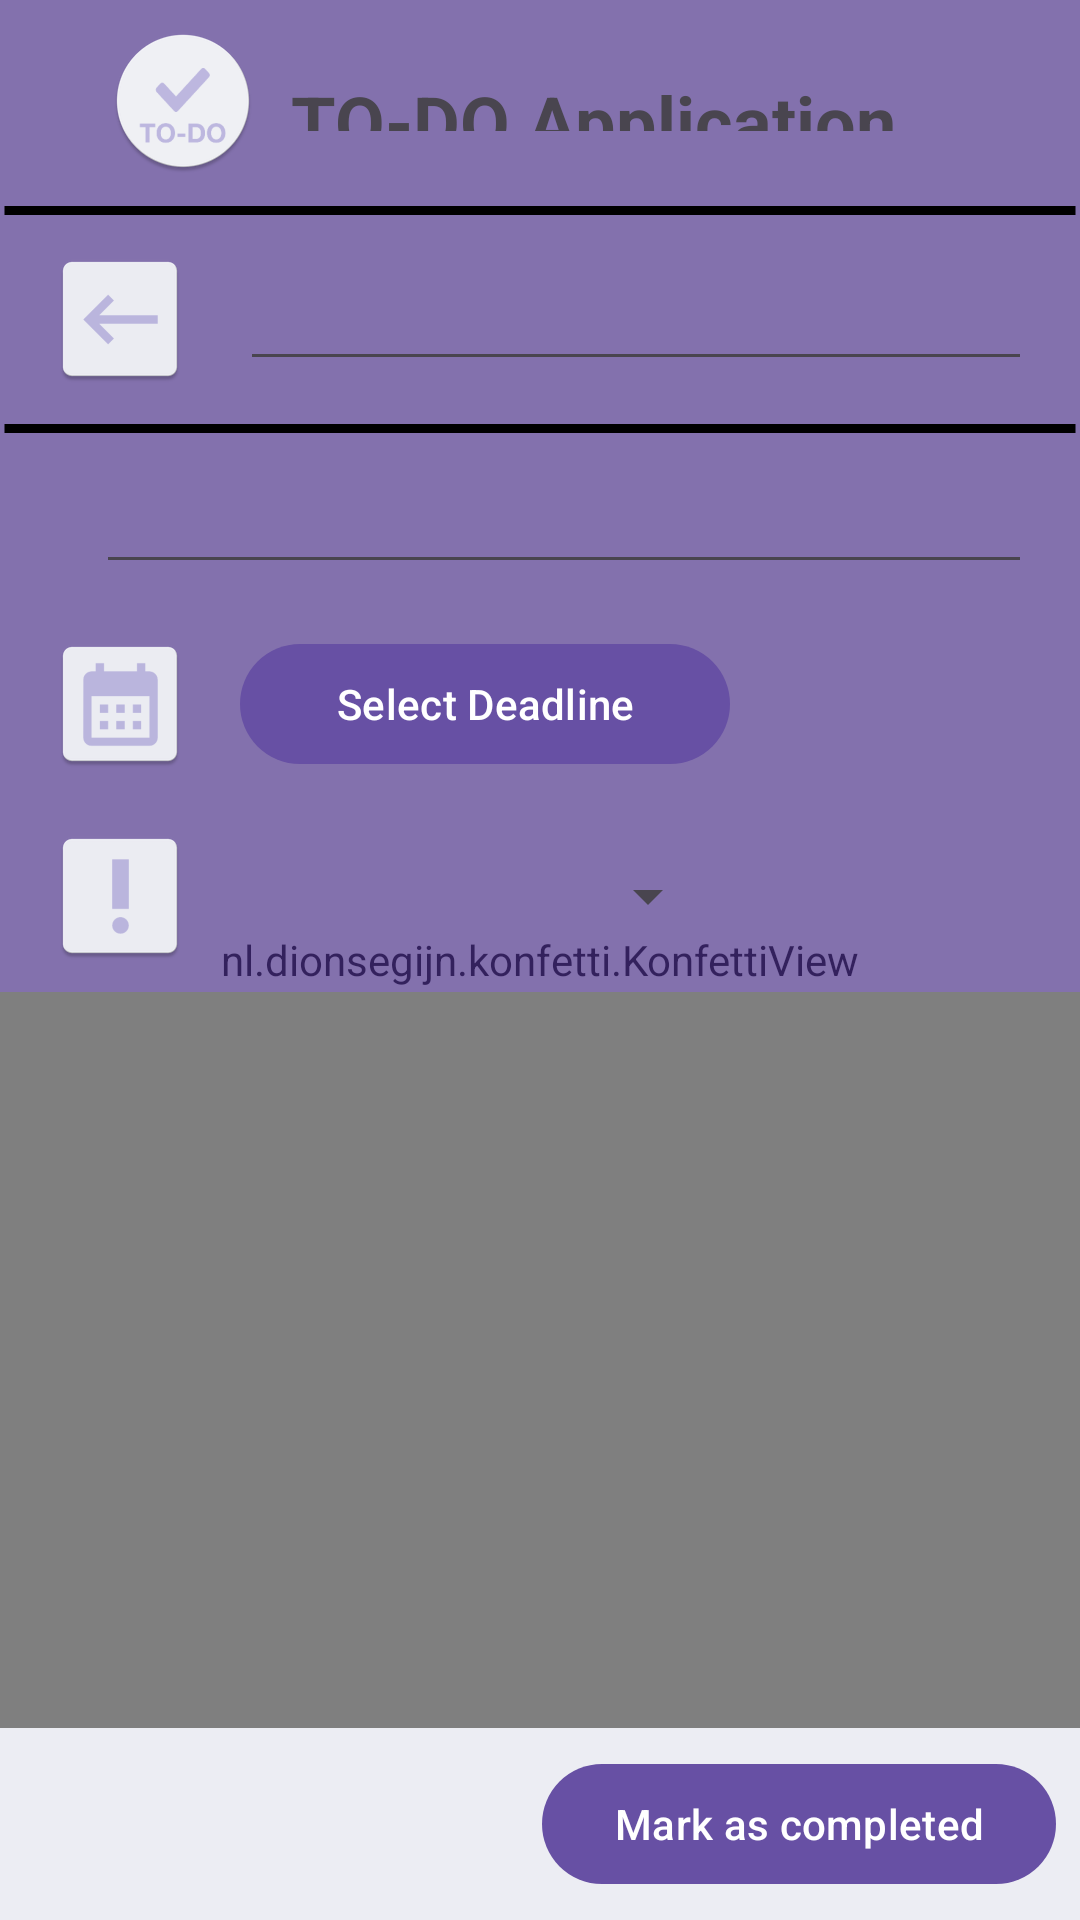

Icons on this 1080*1920 Android screen, each with its box as box(x1, y1, x2, y2):
back: box(63, 262, 177, 379)
calendar: box(63, 647, 177, 764)
priority: box(63, 839, 177, 956)
